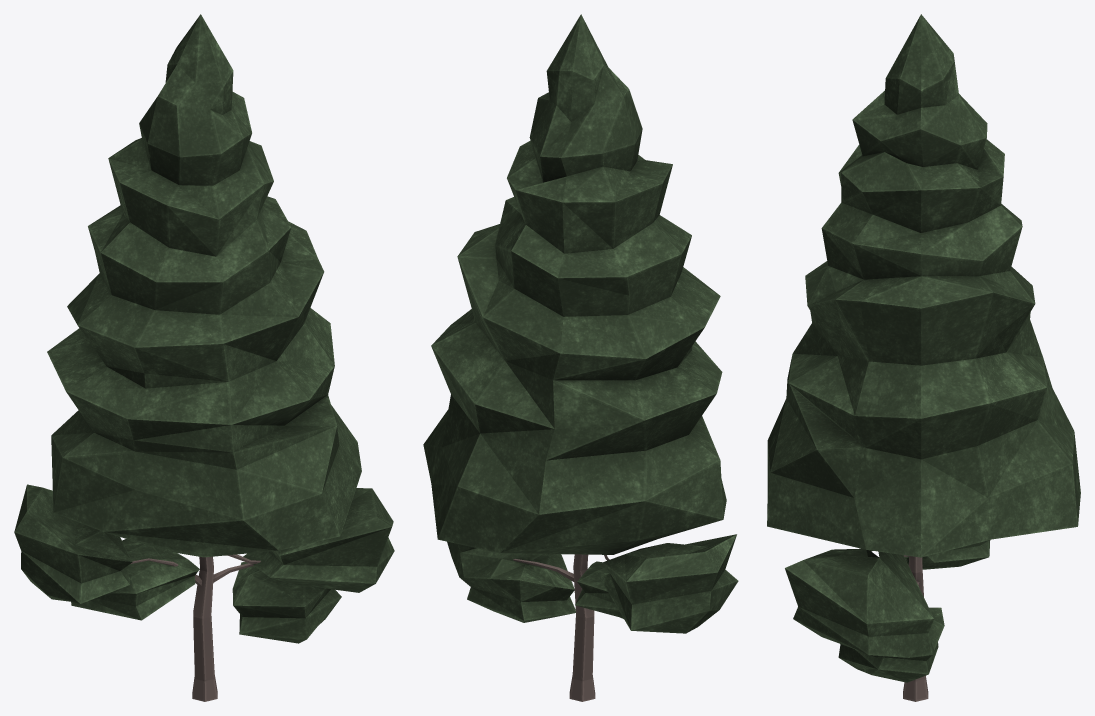
Rendered from spruce-tree.glb.
3 views of the same model, side by side, from view 1: azimuth 30°, elevation 25°; view 2: azimuth 150°, elevation 25°; view 3: azimuth 270°, elevation 25° (orthographic).
Visible parts, largest first — view 1: SpruceTree_mesh; view 2: SpruceTree_mesh; view 3: SpruceTree_mesh.
Boxes of the visible parts, x1,y1,x2,y2 form: SpruceTree_mesh: [14, 14, 394, 701]; SpruceTree_mesh: [423, 14, 738, 701]; SpruceTree_mesh: [767, 14, 1080, 701].
Bounding box in the file's own units: 8.27 × 16.34 × 6.83.
1 material, 1 textured.
